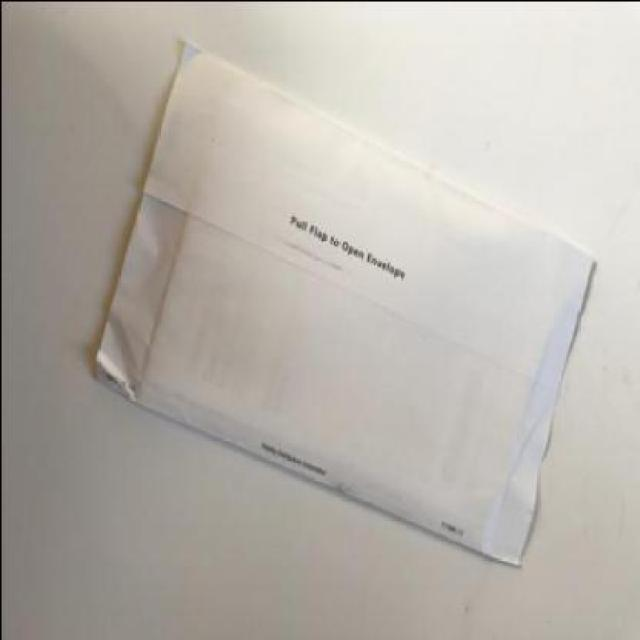PAPER: (94, 39, 600, 568)
